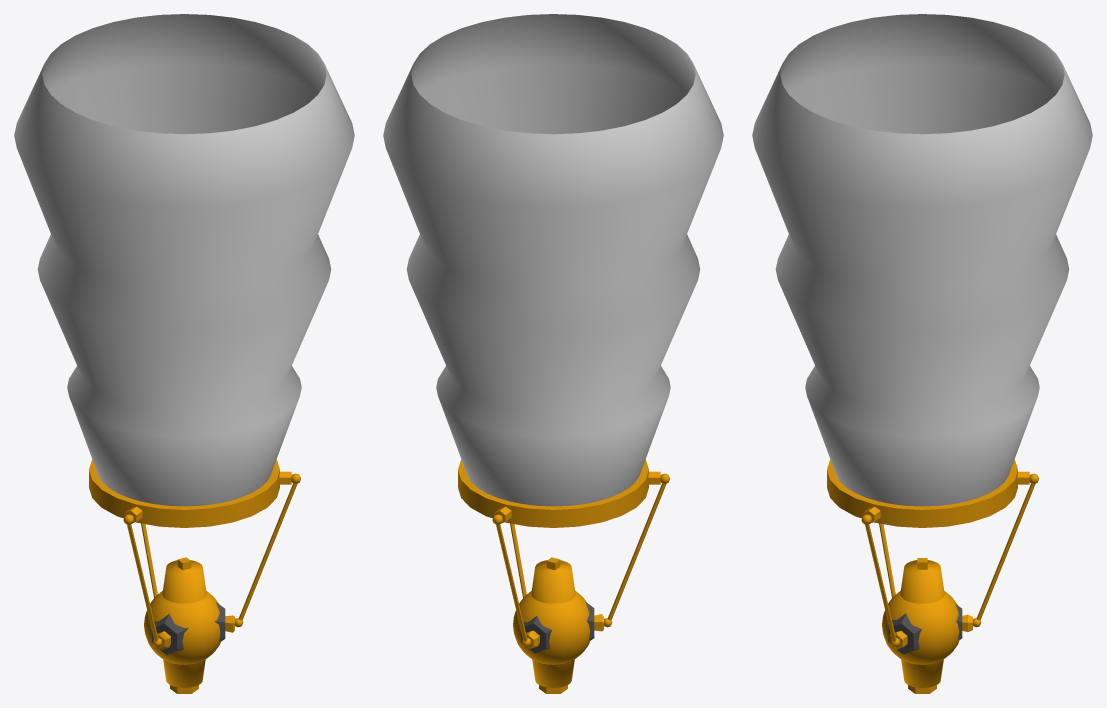
Rendered from lantern_model.fbx.
3 renders of one model, left to right at view 1: azimuth 30°, elevation 25°; view 2: azimuth 150°, elevation 25°; view 3: azimuth 270°, elevation 25°, orthographic.
Visible parts, largest first — view 1: Cylinder.003, Cube.002; view 2: Cylinder.003, Cube.002; view 3: Cylinder.003, Cube.002.
Part boxes in pixels (box(x1,y1,x2,y2)): Cylinder.003: box(14, 14, 354, 506); Cube.002: box(89, 459, 300, 693); Cylinder.003: box(383, 14, 723, 506); Cube.002: box(458, 459, 669, 693); Cylinder.003: box(752, 14, 1092, 506); Cube.002: box(827, 459, 1038, 693).
Size of the model in its own units: 134 by 268 by 134.
